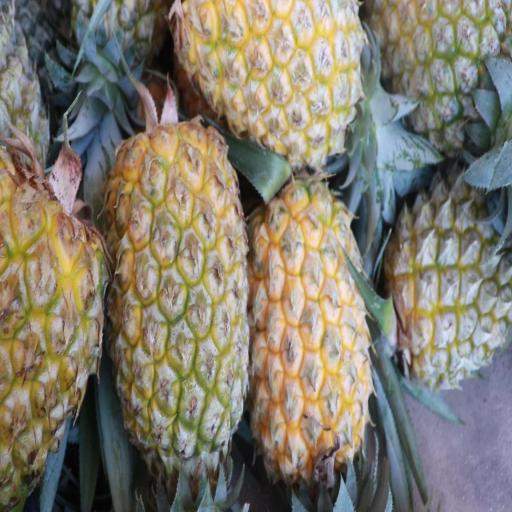------------------------------: (392, 165, 512, 384)
Pineapple - v8 v1: (110, 126, 248, 464), (0, 150, 105, 507), (250, 182, 370, 480), (181, 0, 360, 161), (370, 0, 510, 147)
